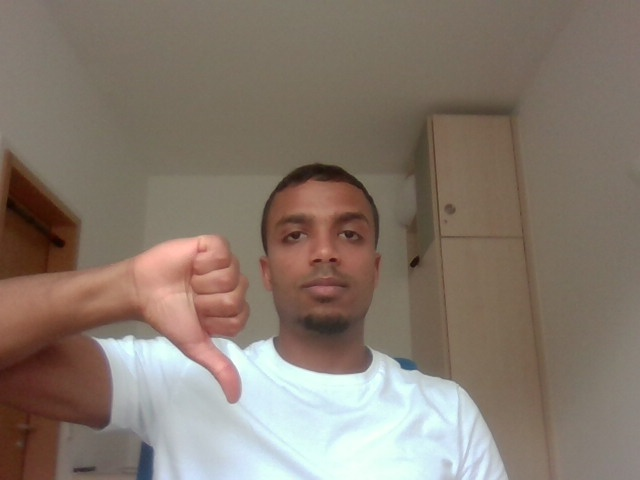no: (133, 208, 255, 419)
